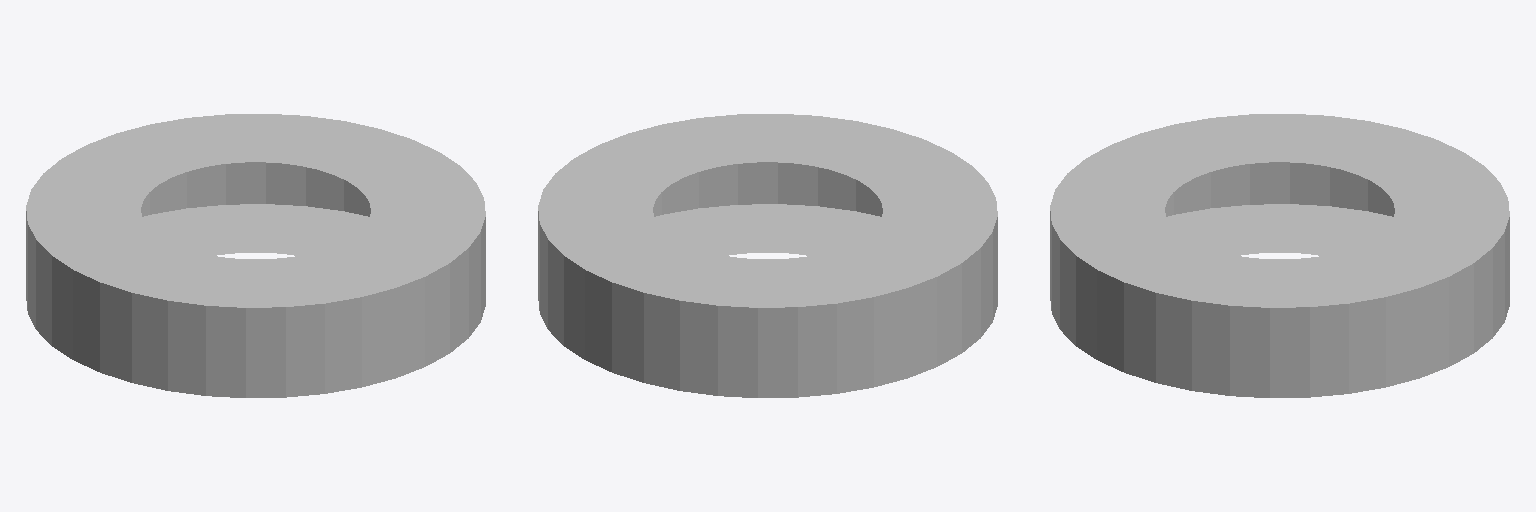
File: original-103.obj
The picture shows the model from 3 angles: view 1: azimuth 30°, elevation 25°; view 2: azimuth 150°, elevation 25°; view 3: azimuth 270°, elevation 25°; orthographic projection.
Visible parts, largest first — view 1: #ID518; view 2: #ID518; view 3: #ID518.
Part boxes in pixels (bbox=[...]): #ID518: bbox=[26, 114, 485, 397]; #ID518: bbox=[538, 114, 997, 397]; #ID518: bbox=[1050, 114, 1509, 397].
Bounding box in the file's own units: 0.0929 × 0.0201 × 0.0929.